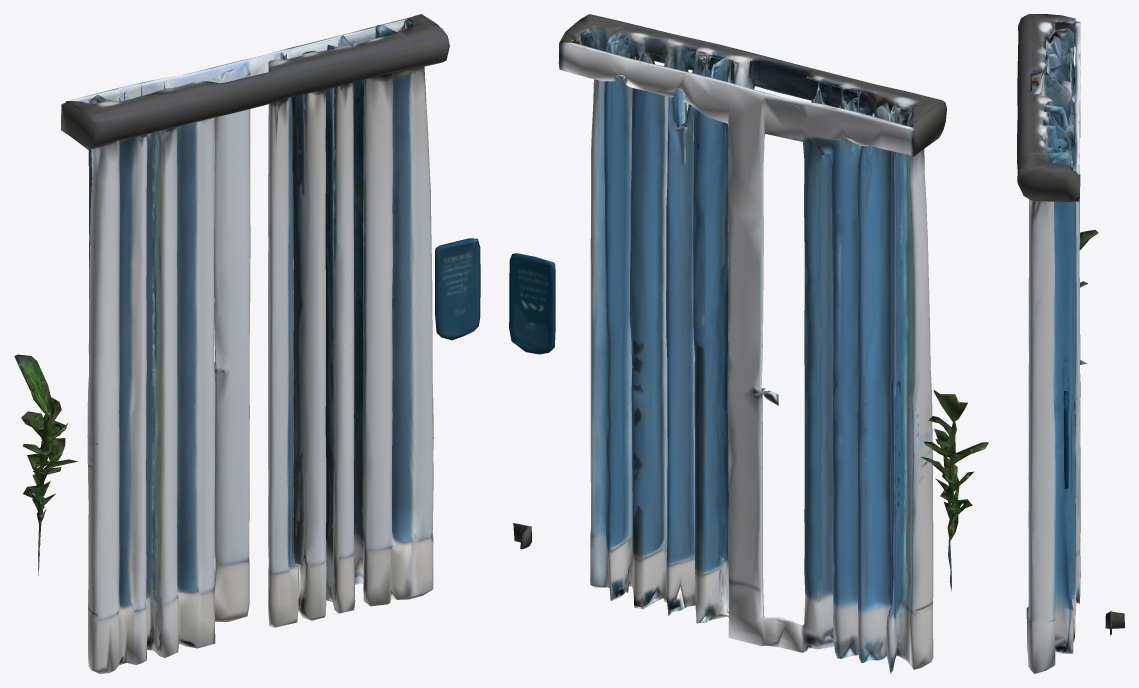
File: Smart_curtains.glb
The picture shows the model from 3 angles, left to right: view 1: azimuth 30°, elevation 25°; view 2: azimuth 150°, elevation 25°; view 3: azimuth 270°, elevation 25°; orthographic projection. The views are drawn at different scales.
Size of the model in its own units: 1.74 by 2 by 0.3845.
1 material, 1 textured.
